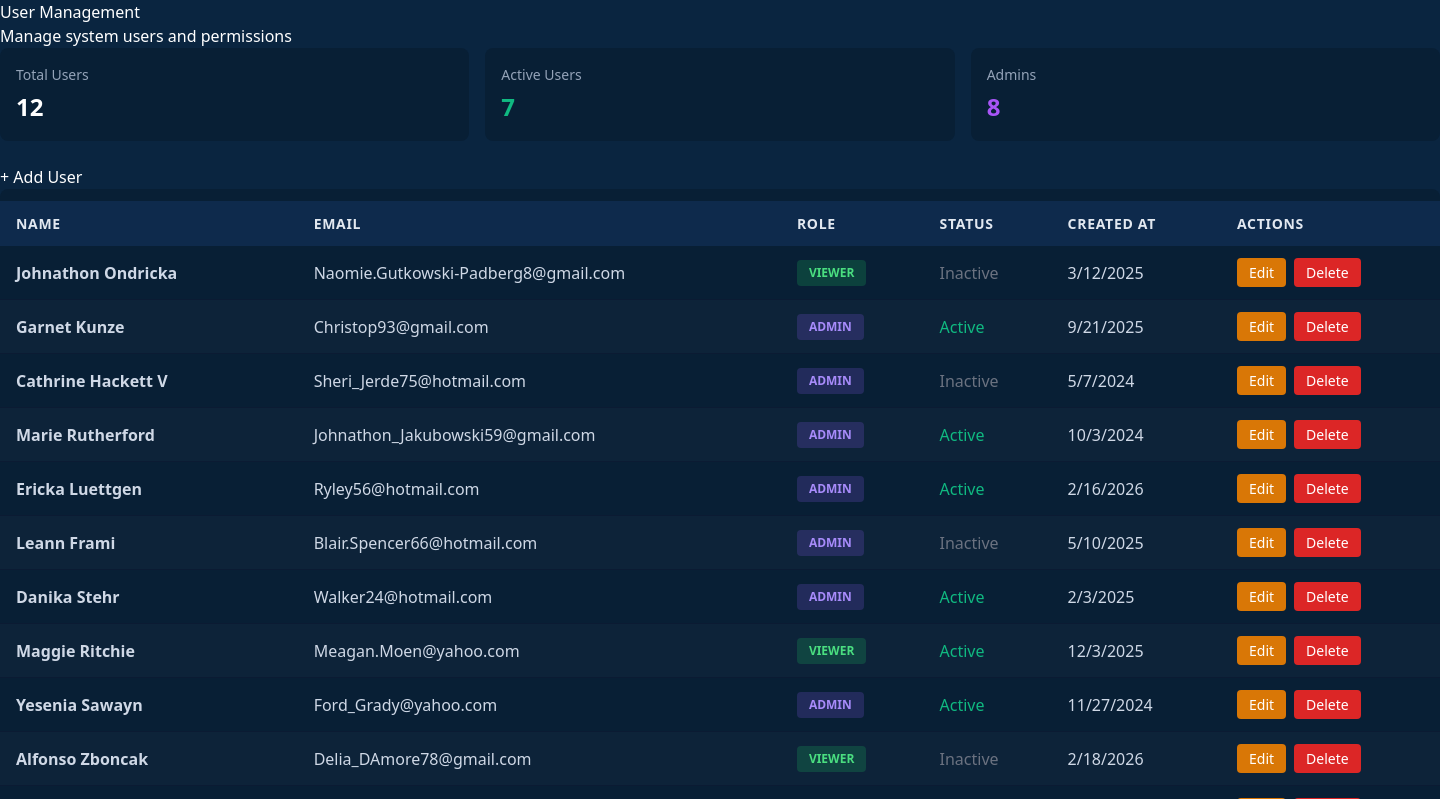
Test: UserManagement › should update an existing user
# Click edit on first user
Click the 1st button "Edit" at (1262, 272), box [1237, 258, 1286, 287]
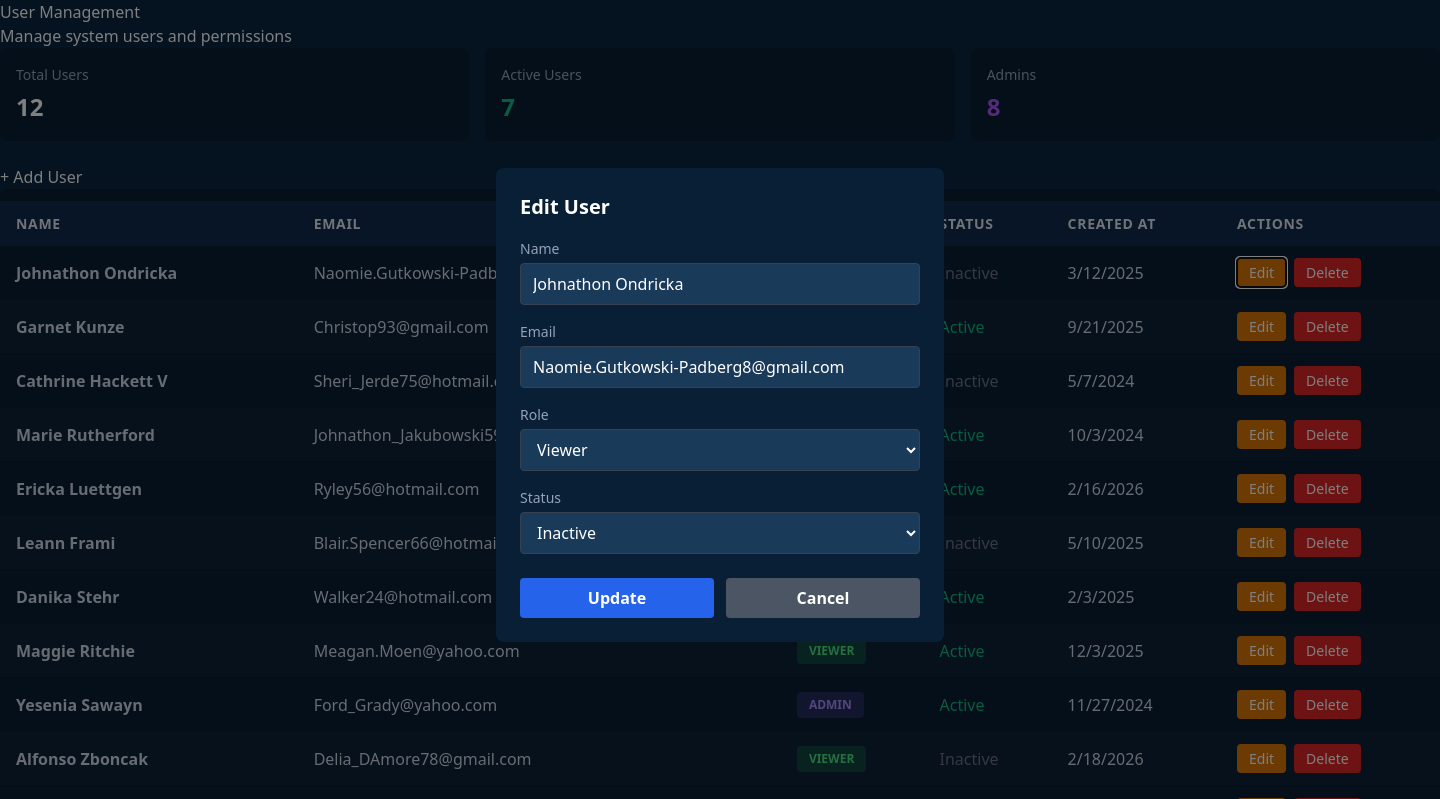
Now the heading "Edit User" is shown, box [520, 193, 610, 220]
Replace the text in the 1st field with placeholder "Enter name" with "Updated Name" at (720, 284), box [520, 263, 920, 305]
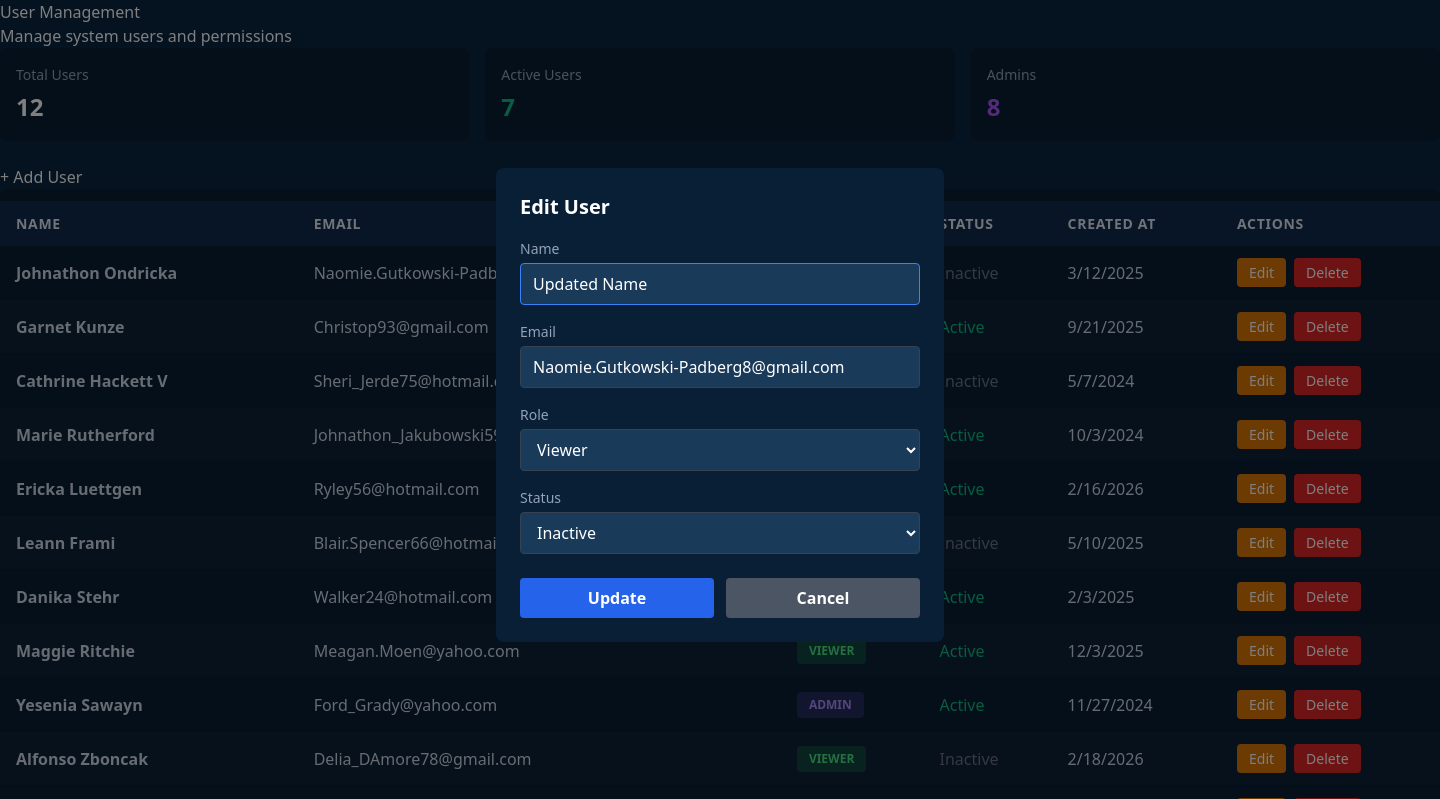
Click the button "Update" at (617, 598), box [520, 578, 714, 618]
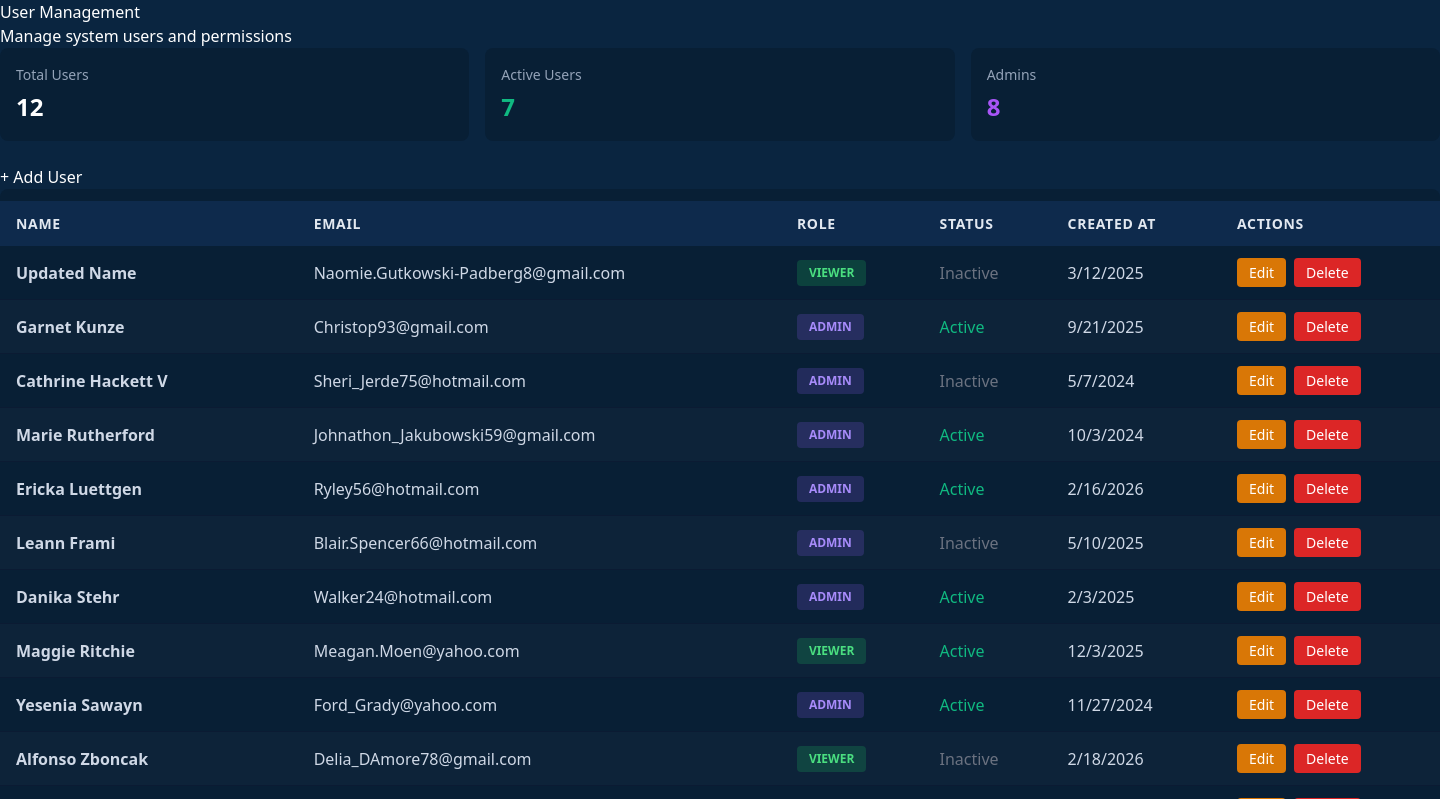
Now the text "Updated Name" is shown, box [0, 246, 298, 300]
